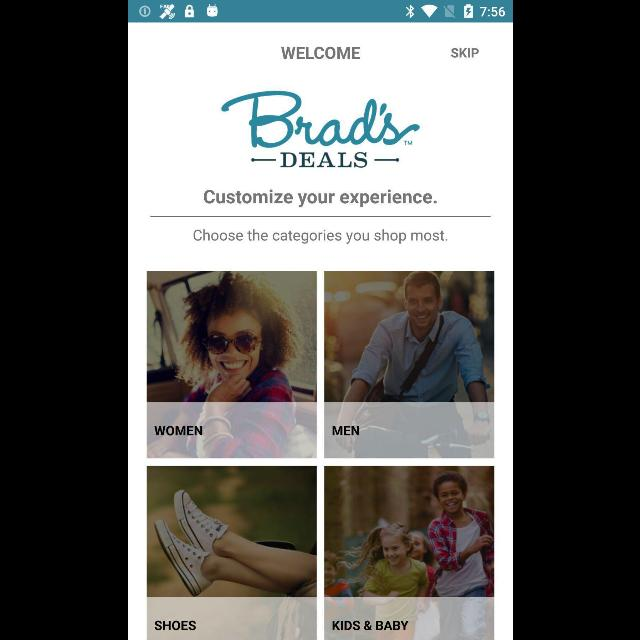image: (324, 272, 494, 458), (146, 272, 316, 458), (324, 466, 494, 640), (146, 466, 316, 640), (220, 90, 420, 168)
text: (202, 188, 436, 208), (193, 230, 447, 244), (280, 46, 360, 60), (332, 620, 408, 630), (154, 426, 202, 436), (153, 620, 195, 630), (450, 48, 478, 58), (332, 426, 358, 436)
uppertaskbar: (128, 1, 512, 23)
